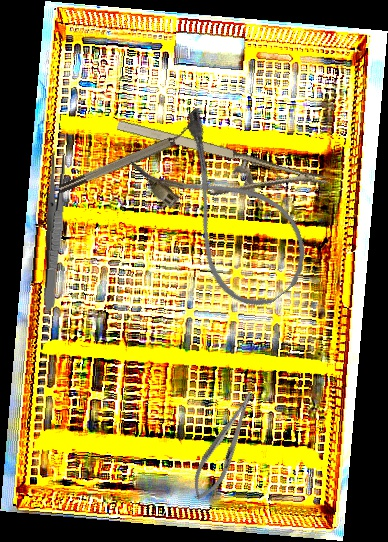Cannula: (124, 103, 326, 322)
Dressing Forceps: (42, 151, 67, 311)
Fixation Ring: (54, 120, 204, 196)
Needle Holder: (106, 114, 331, 227), (184, 386, 265, 506)
